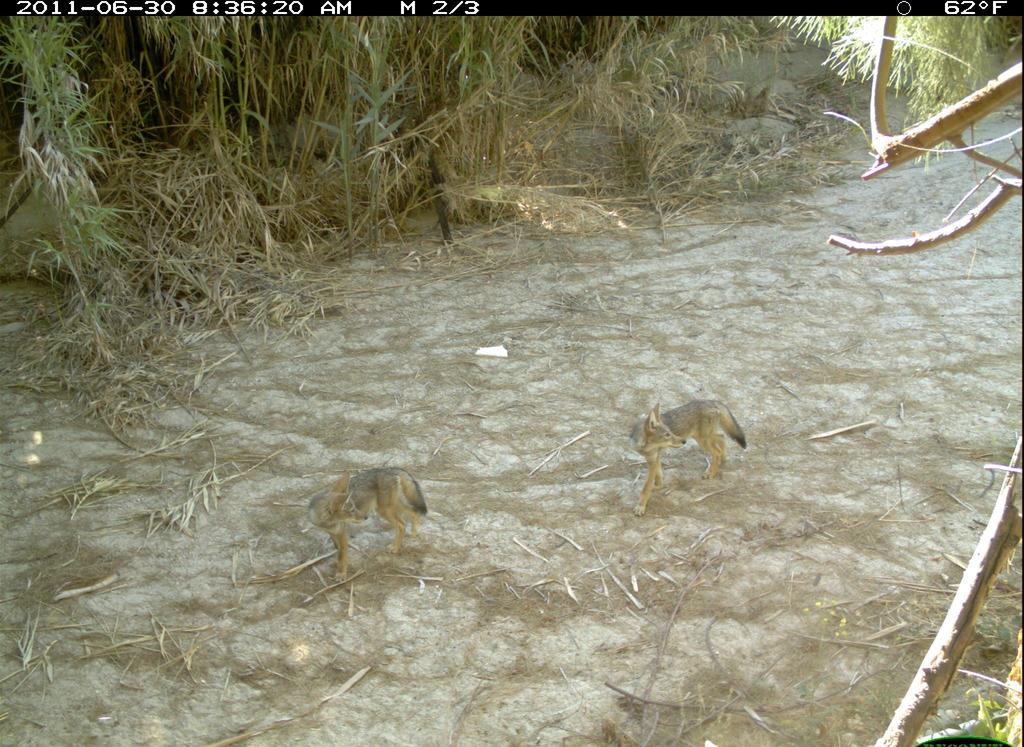coyote: (623, 383, 757, 529), (303, 459, 443, 584)
